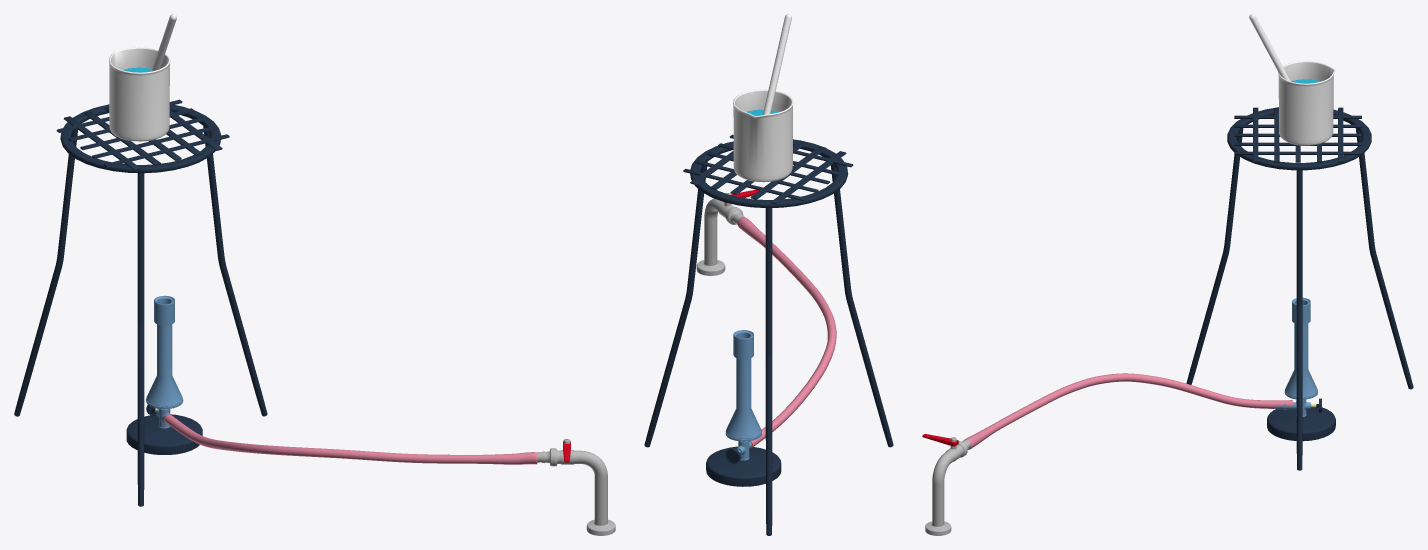
Rendered from burner tripod 1.fbx.
3 views of the same model, side by side, from view 1: azimuth 30°, elevation 25°; view 2: azimuth 150°, elevation 25°; view 3: azimuth 270°, elevation 25° (orthographic). The views are drawn at different scales.
Parts seen in each view (by area): view 1: Teclu Burner_dup_2.Shape; view 2: Teclu Burner_dup_2.Shape; view 3: Teclu Burner_dup_2.Shape.
Part boxes in pixels (x1,y1,x2,y2): Teclu Burner_dup_2.Shape: (14, 14, 615, 535); Teclu Burner_dup_2.Shape: (644, 14, 893, 535); Teclu Burner_dup_2.Shape: (922, 14, 1413, 535).
Size of the model in its own units: 45.79 by 57.57 by 63.3.
